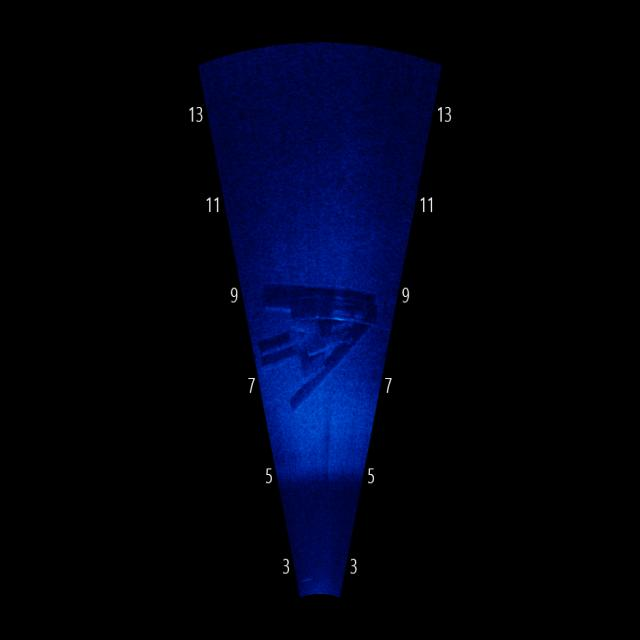triangle: (254, 277, 384, 428)
